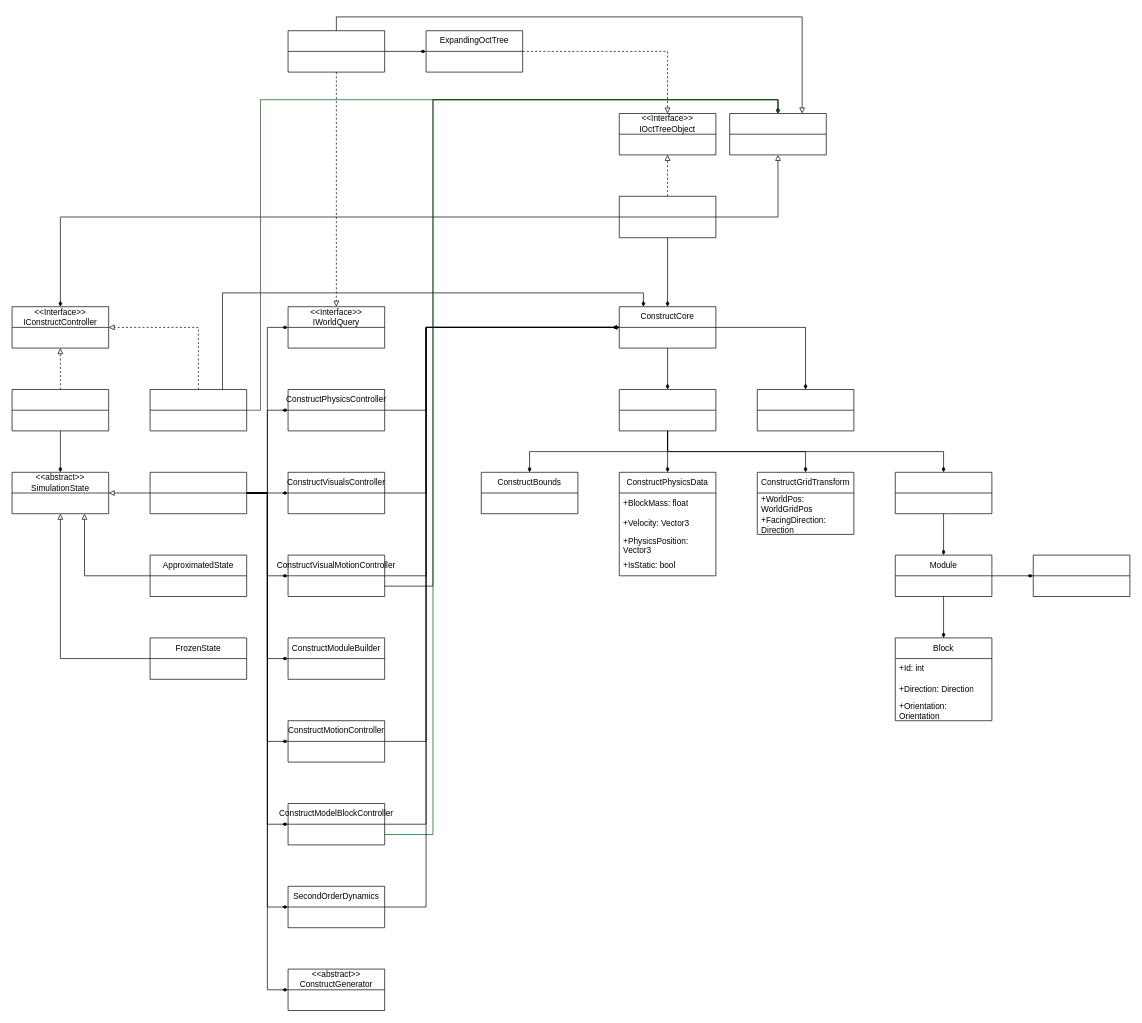
This 1142x1023 diagram has some shape labels left out. Each missing label, with the centre of its shape:
ActiveState: [198,493]
Construct: [667,217]
ConstructBlockService: [805,410]
ConstructData: [667,410]
ConstructModules: [943,493]
ConstructWorld: [336,51]
GlobalConstructController: [198,410]
Node3D: [777,134]
SimulationStateController: [60,410]
SurfaceCacheController: [1081,575]
